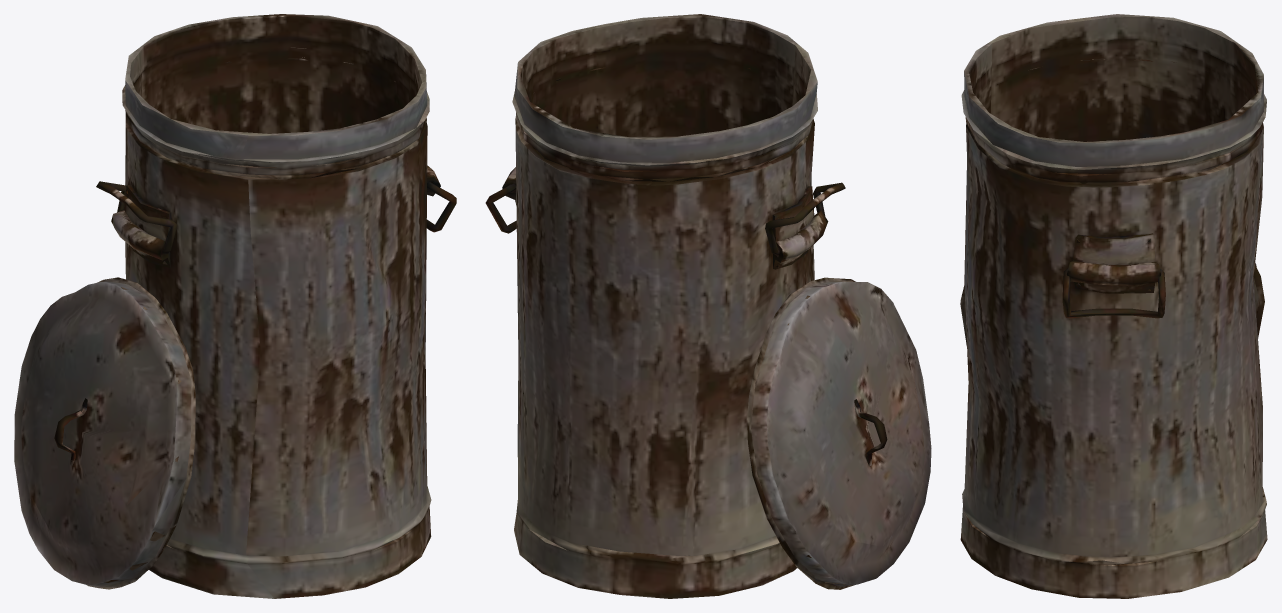
Rendered from yardprop_trash_can_rust.glb.
3 views of the same model, side by side, from view 1: azimuth 30°, elevation 25°; view 2: azimuth 150°, elevation 25°; view 3: azimuth 270°, elevation 25° (orthographic).
Visible parts, largest first — view 1: metal_trash_can_rust, metal_trash_can_rust_lid, metal_trash_can_rust_handle_left, metal_trash_can_rust_handle_right; view 2: metal_trash_can_rust, metal_trash_can_rust_lid, metal_trash_can_rust_handle_left, metal_trash_can_rust_handle_right; view 3: metal_trash_can_rust, metal_trash_can_rust_handle_right, metal_trash_can_rust_lid.
Boxes of the visible parts, x1,y1,x2,y2 form: metal_trash_can_rust: (111,14,440,598); metal_trash_can_rust_lid: (14,277,195,589); metal_trash_can_rust_handle_left: (96,181,177,254); metal_trash_can_rust_handle_right: (426,182,456,232); metal_trash_can_rust: (502,14,828,598); metal_trash_can_rust_lid: (747,277,931,589); metal_trash_can_rust_handle_left: (765,182,845,255); metal_trash_can_rust_handle_right: (485,183,516,233); metal_trash_can_rust: (960,14,1267,598); metal_trash_can_rust_handle_right: (1062,268,1165,318); metal_trash_can_rust_lid: (960,263,1264,345).
Bounding box in the file's own units: 0.7739 × 0.9064 × 0.5505.
Materials: 1 (1 with a texture image).
